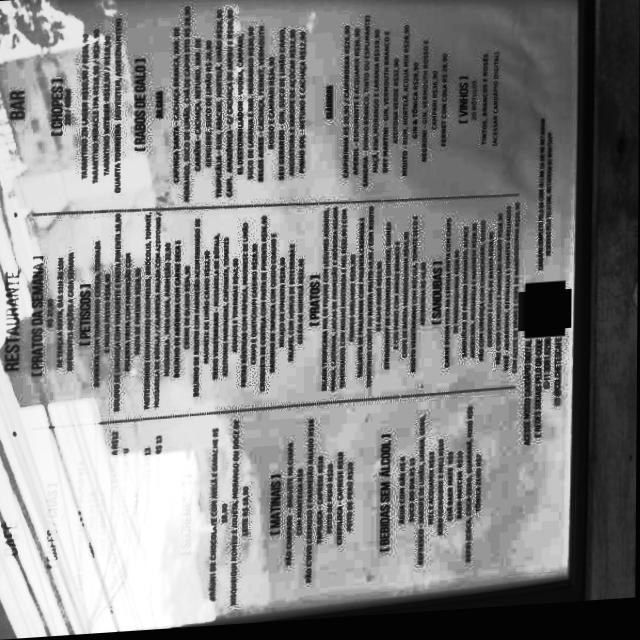qr_code: (522, 292, 569, 341)
